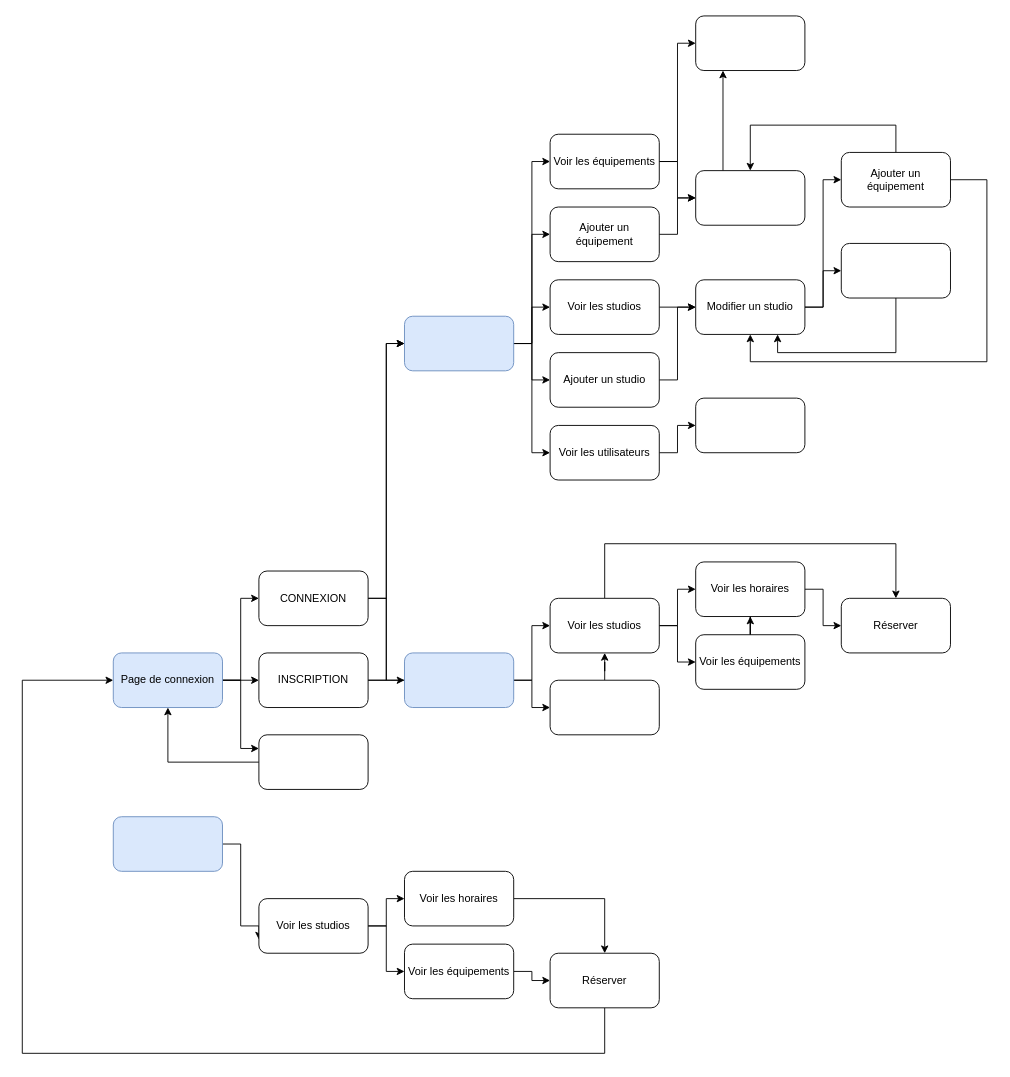
This 1010x1077 diagram has some shape labels left out. Each missing label, with the centre of its shape:
"Accueil" belongs at pixel 167 843.
"Affecter l'équipement à un studio" belongs at pixel 750 43.
"Ajouter un équipement existant" belongs at pixel 895 270.
"DASHBOARD Administrateur" belongs at pixel 459 343.
"DASHBOARD Utilisateur" belongs at pixel 459 680.
"Modifier un équipement" belongs at pixel 750 197.
"Mot de passe oublié" belongs at pixel 313 761.
"Remplacer le mot de passe" belongs at pixel 750 425.
"Voir les réservations" belongs at pixel 604 707.
